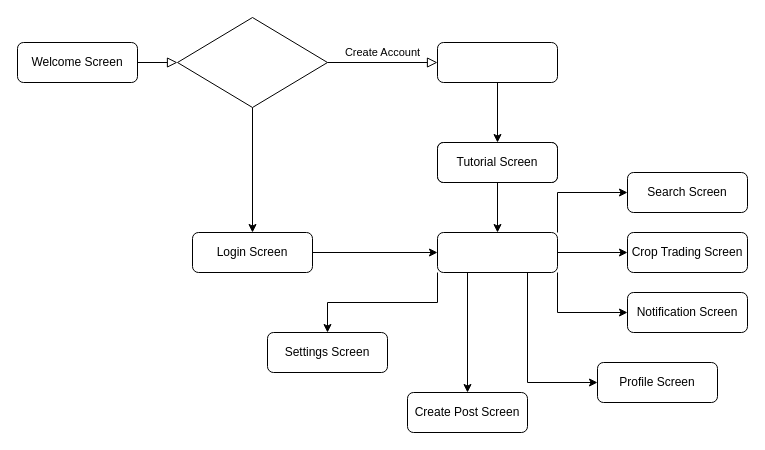
Image size: 765x450. Some labels were removed from this diagram. Each missing label, with the centre of its shape:
"Home Feed Screen" goes at point (497, 252).
"Login or sign up?" goes at point (252, 62).
"Sign up screen" goes at point (497, 62).
